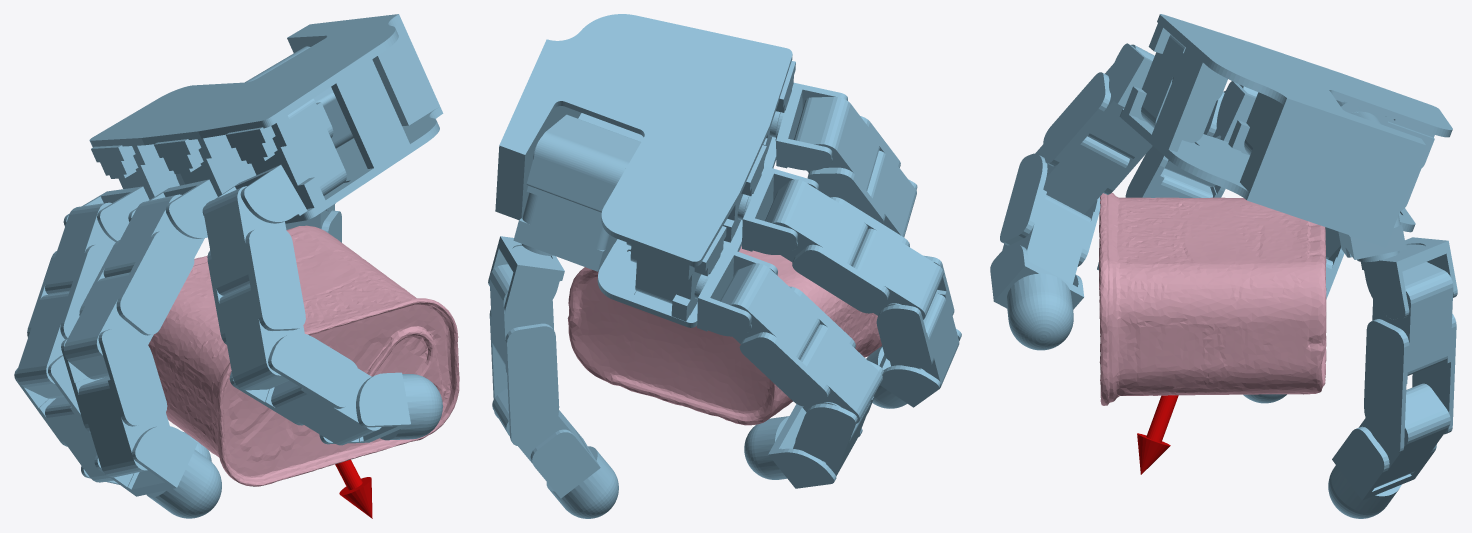
3 views of the same model, side by side, from view 1: azimuth 30°, elevation 25°; view 2: azimuth 150°, elevation 25°; view 3: azimuth 270°, elevation 25° (orthographic). The views are drawn at different scales.
Parts seen in each view (by area): view 1: world, potted_meat_can.stl; view 2: world, potted_meat_can.stl; view 3: world, potted_meat_can.stl.
Part boxes in pixels (x1=…): world: x1=14, y1=14, x2=443, y2=518; potted_meat_can.stl: x1=148, y1=225, x2=459, y2=486; world: x1=488, y1=14, x2=961, y2=518; potted_meat_can.stl: x1=567, y1=246, x2=881, y2=425; world: x1=990, y1=14, x2=1457, y2=518; potted_meat_can.stl: x1=1099, y1=193, x2=1326, y2=405.
Size of the model in its own units: 0.1657 by 0.19 by 0.1717.
